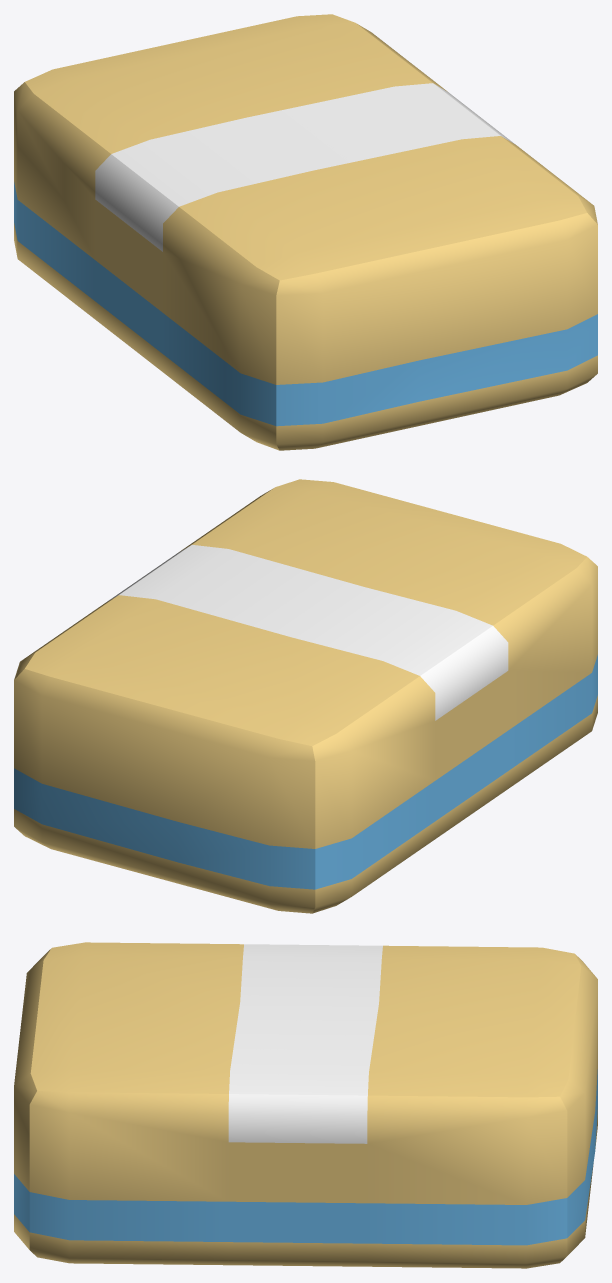
The model's file is Props_Box_Blue_04.fbx.
3 views of the same model, one above another, from view 1: azimuth 30°, elevation 25°; view 2: azimuth 150°, elevation 25°; view 3: azimuth 270°, elevation 25° (orthographic). The views are drawn at different scales.
Parts seen in each view (by area): view 1: Props_Box_Blue_04; view 2: Props_Box_Blue_04; view 3: Props_Box_Blue_04.
Boxes of the visible parts, left/top/right/bottom form: Props_Box_Blue_04: left=14, top=14, right=597, bottom=450; Props_Box_Blue_04: left=14, top=479, right=597, bottom=913; Props_Box_Blue_04: left=14, top=942, right=597, bottom=1268.
Size of the model in its own units: 36.84 by 18.37 by 53.48.
